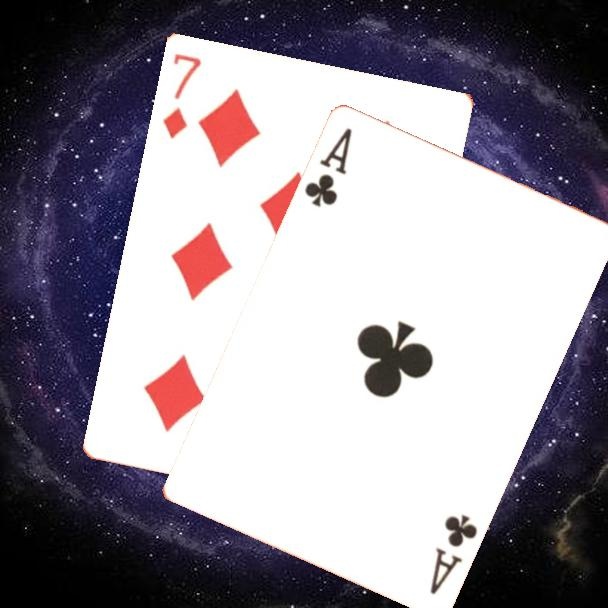c01: (426, 511, 481, 598), (301, 124, 355, 211)
d07: (158, 49, 204, 141)
